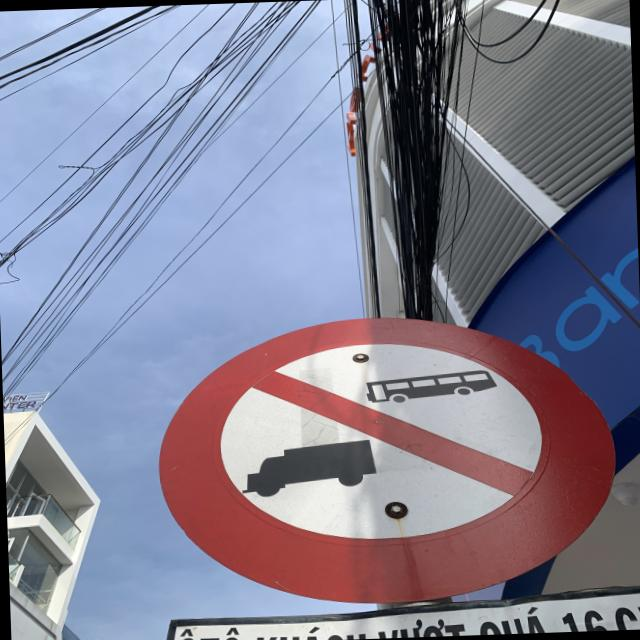Cam_XeTai_XeKhach: (152, 309, 620, 612)
